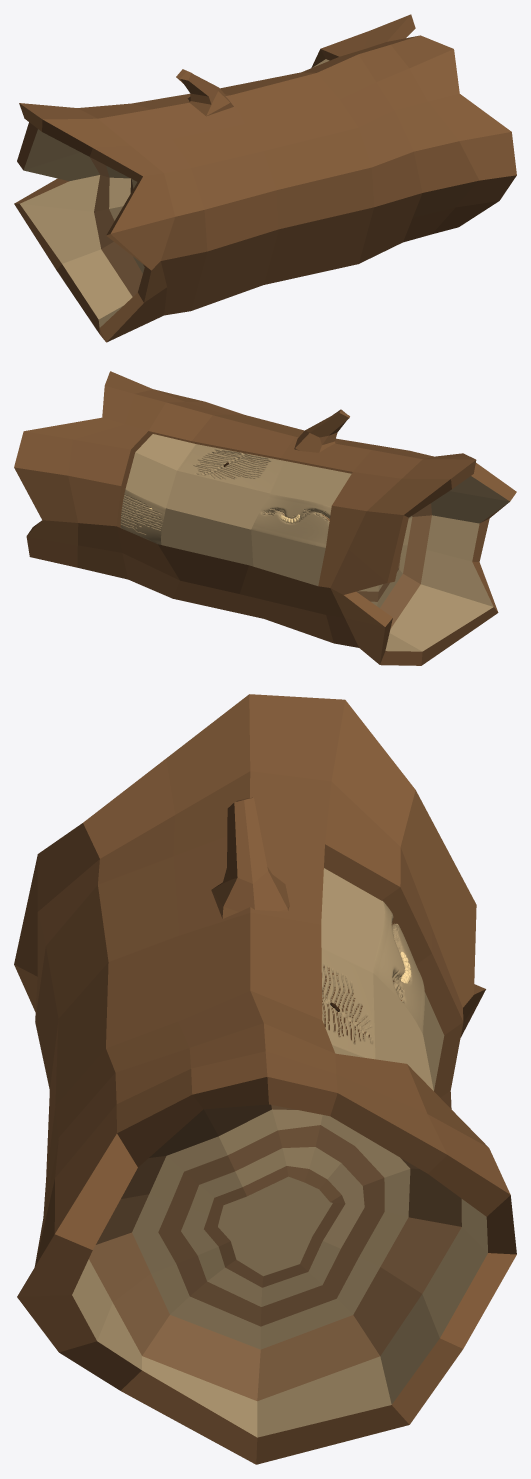
File: inner.glb
The picture shows the model from 3 angles, top to bottom: view 1: azimuth 30°, elevation 25°; view 2: azimuth 150°, elevation 25°; view 3: azimuth 270°, elevation 25°; orthographic projection. The views are drawn at different scales.
Parts seen in each view (by area): view 1: branch.001; view 2: branch.001; view 3: branch.001.
Boxes of the visible parts, x1,y1,x2,y2 form: branch.001: (14, 14, 516, 342); branch.001: (14, 371, 516, 665); branch.001: (14, 694, 516, 1464).
Bounding box in the file's own units: 7.15 × 3.93 × 3.83.
